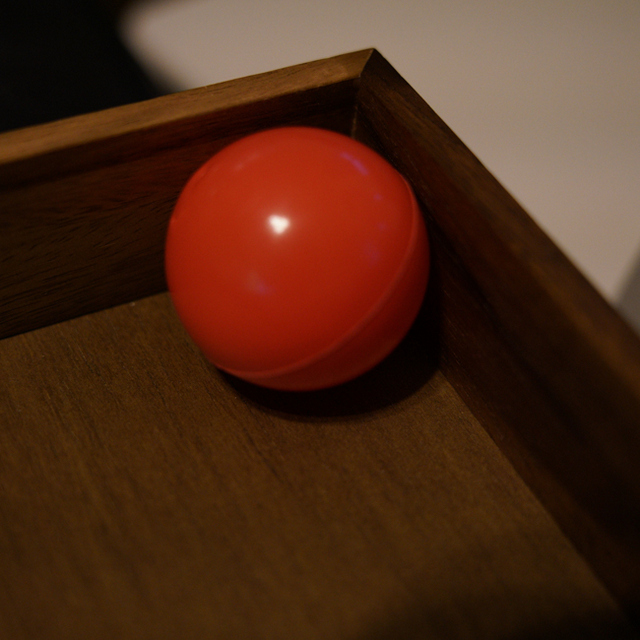Ball: (168, 125, 431, 383)
